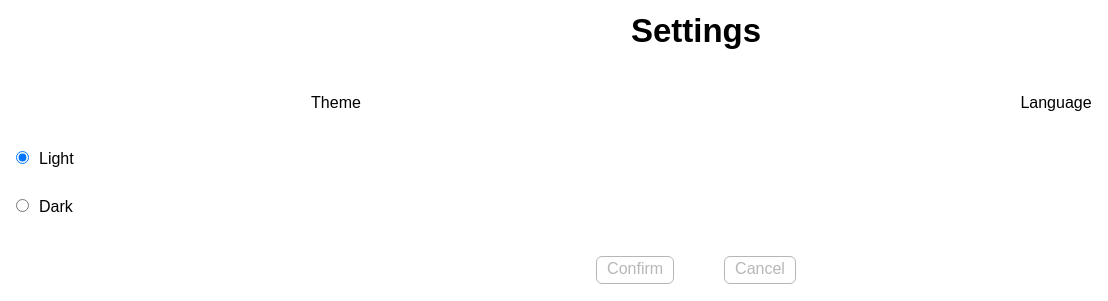
Test case: Settings › confirm button on click for theme setting
The image size is (1108, 301).
What coordinates should you click on to do the following:
click the text "Dark"
I would click on:
 (56, 206)
Its box is 39,198 -> 73,215.
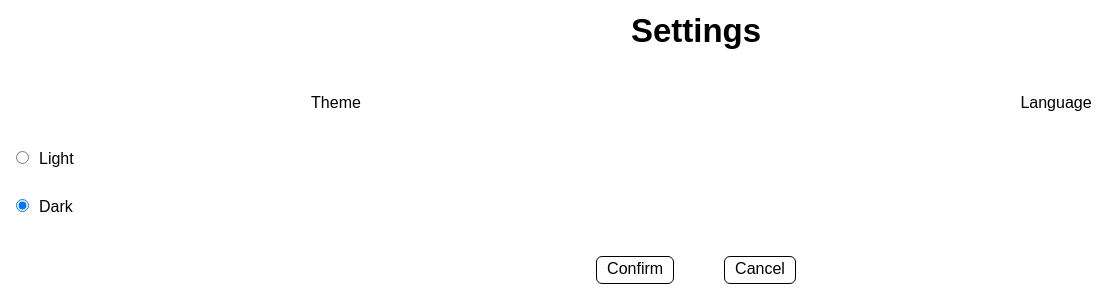
expect the radio button labelled "Dark" holds "dark": met, box 16,199 -> 29,212
expect the radio button labelled "Dark" is checked: met, box 16,199 -> 29,212
What coordinates should you click on to do the following:
click the button "Confirm"
I would click on:
 (635, 270)
Its box is 596,256 -> 674,284.
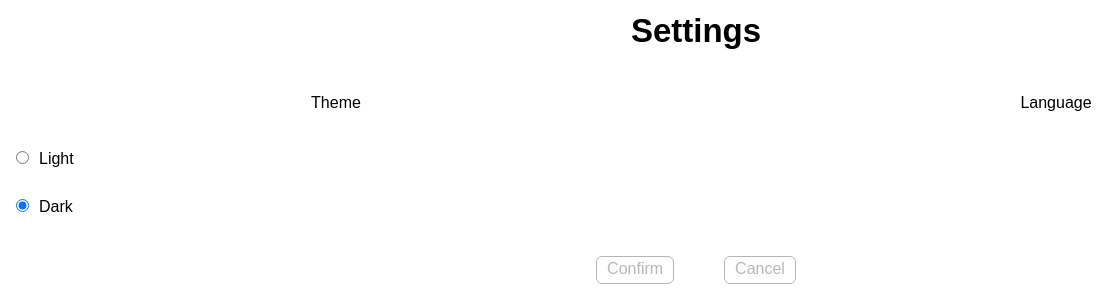
expect the radio button labelled "Dark" is checked: met, box 16,199 -> 29,212
expect the button "Confirm" is disabled: met, box 596,256 -> 674,284
expect the button "Cancel" is disabled: met, box 724,256 -> 796,284
